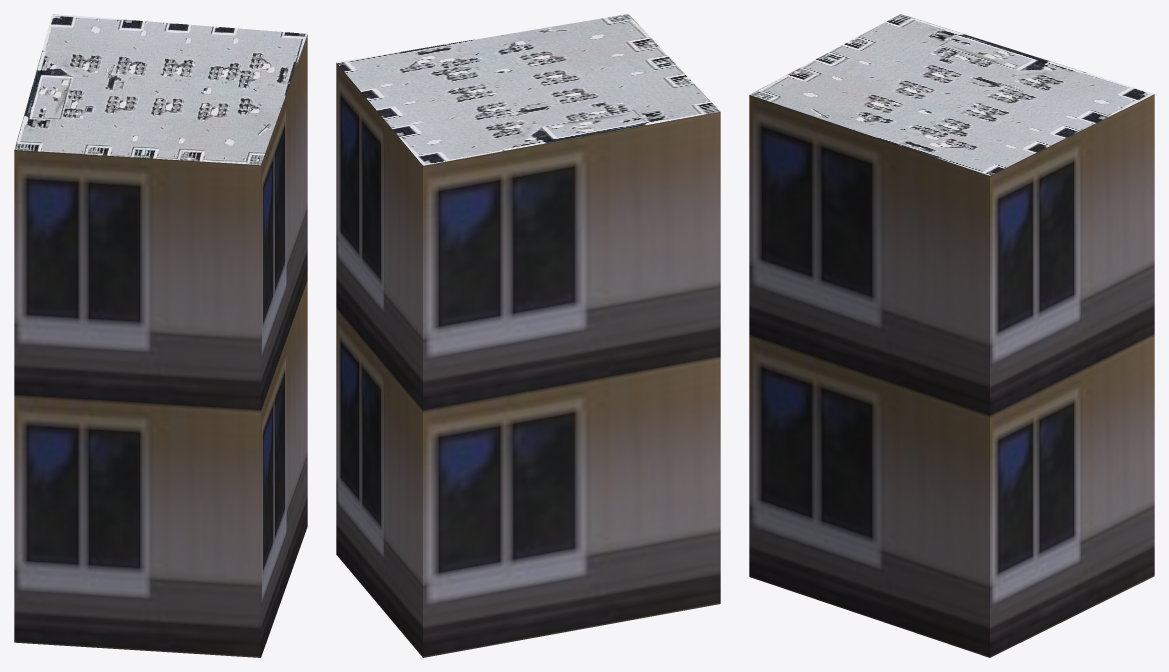
The model's file is ResTex__5221.fbx.
3 renders of one model, left to right at view 1: azimuth 30°, elevation 25°; view 2: azimuth 150°, elevation 25°; view 3: azimuth 270°, elevation 25°, orthographic. The views are drawn at different scales.
Visible parts, largest first — view 1: CityEngineMaterial_5_m, CityEngineMaterial_m; view 2: CityEngineMaterial_5_m, CityEngineMaterial_m; view 3: CityEngineMaterial_5_m, CityEngineMaterial_m.
Boxes of the visible parts, x1=… form: CityEngineMaterial_5_m: x1=14, y1=35, x2=307, y2=657; CityEngineMaterial_m: x1=14, y1=14, x2=307, y2=165; CityEngineMaterial_5_m: x1=336, y1=63, x2=720, y2=657; CityEngineMaterial_m: x1=336, y1=14, x2=720, y2=165; CityEngineMaterial_5_m: x1=749, y1=94, x2=1154, y2=657; CityEngineMaterial_m: x1=749, y1=14, x2=1154, y2=175.
Size of the model in its own units: 4.32 by 6 by 4.57.
2 materials, 2 textured.
